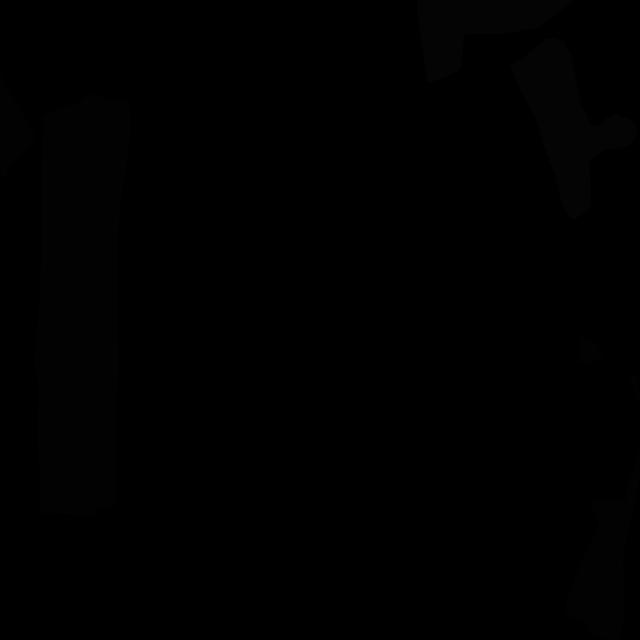cardboard: (34, 94, 131, 517), (564, 446, 640, 640), (578, 336, 604, 364), (627, 373, 640, 407)
soft_plastic: (510, 38, 637, 220), (416, 0, 575, 83)
